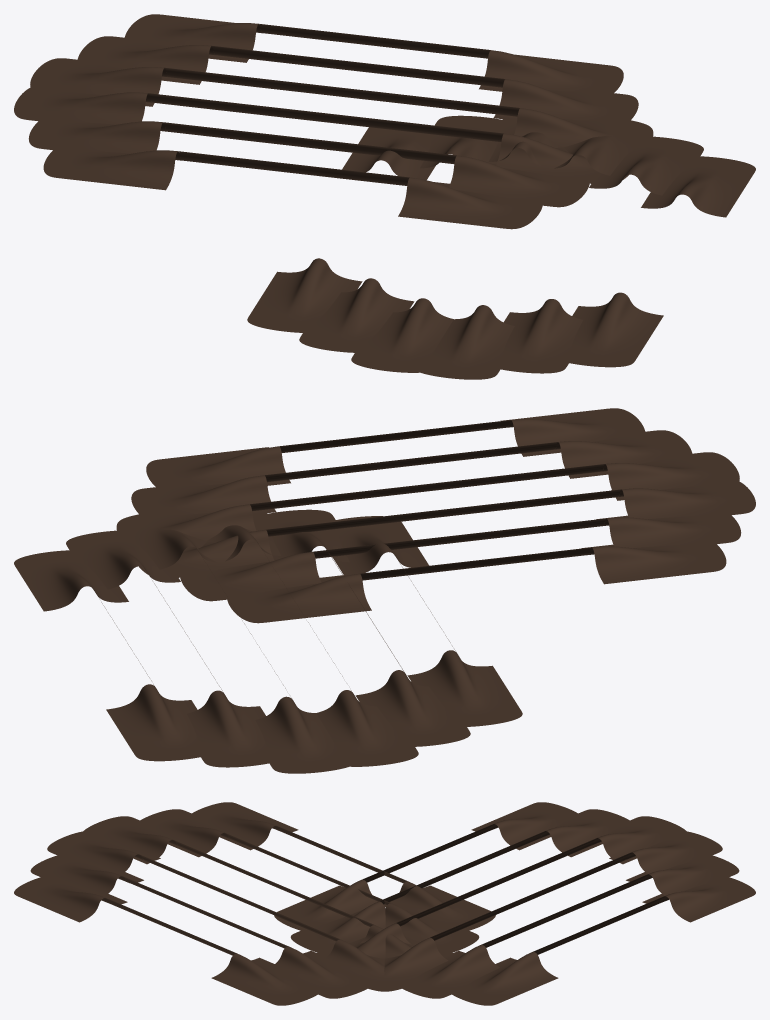
File: jardin.glb
The picture shows the model from 3 angles, top to bottom: view 1: azimuth 30°, elevation 25°; view 2: azimuth 150°, elevation 25°; view 3: azimuth 270°, elevation 25°; orthographic projection. The views are drawn at different scales.
Parts seen in each view (by area): view 1: Objet_14, Objet_15, Objet_57, Objet_10, Objet_12, Objet_7, Objet_8, Objet_45, Objet_54, Objet_56, Objet_33, Objet_34 (+25 smaller); view 2: Objet_44, Objet_45, Objet_27, Objet_40, Objet_42, Objet_37, Objet_38, Objet_15, Objet_26, Objet_24, Objet_8, Objet_22 (+25 smaller); view 3: Objet_56, Objet_26, Objet_52, Objet_22, Objet_57, Objet_27, Objet_14, Objet_44, Objet_15, Objet_45, Objet_10, Objet_8 (+42 smaller).
Boxes of the visible parts, x1=… form: Objet_14: x1=571, y1=292, x2=663, y2=360; Objet_15: x1=248, y1=258, x2=362, y2=323; Objet_57: x1=398, y1=177, x2=520, y2=228; Objet_10: x1=503, y1=299, x2=582, y2=366; Objet_12: x1=301, y1=278, x2=414, y2=343; Objet_7: x1=425, y1=305, x2=514, y2=372; Objet_8: x1=353, y1=298, x2=453, y2=364; Objet_45: x1=59, y1=150, x2=181, y2=190; Objet_54: x1=449, y1=155, x2=567, y2=206; Objet_56: x1=479, y1=50, x2=607, y2=91; Objet_33: x1=165, y1=67, x2=519, y2=116; Objet_34: x1=149, y1=93, x2=503, y2=141; Objet_44: x1=106, y1=684, x2=197, y2=754; Objet_45: x1=407, y1=650, x2=521, y2=717; Objet_27: x1=249, y1=573, x2=371, y2=622; Objet_40: x1=187, y1=690, x2=266, y2=760; Objet_42: x1=355, y1=670, x2=468, y2=737; Objet_37: x1=255, y1=696, x2=344, y2=766; Objet_38: x1=316, y1=690, x2=416, y2=758; Objet_15: x1=581, y1=544, x2=710, y2=584; Objet_26: x1=162, y1=446, x2=290, y2=485; Objet_24: x1=202, y1=551, x2=321, y2=600; Objet_8: x1=611, y1=483, x2=739, y2=519; Objet_22: x1=147, y1=475, x2=276, y2=514; Objet_56: x1=463, y1=951, x2=558, y2=1003; Objet_26: x1=211, y1=953, x2=306, y2=1003; Objet_52: x1=412, y1=944, x2=499, y2=996; Objet_22: x1=270, y1=946, x2=358, y2=996; Objet_57: x1=280, y1=879, x2=384, y2=925; Objet_27: x1=385, y1=881, x2=489, y2=925; Objet_14: x1=19, y1=882, x2=127, y2=922; Objet_44: x1=642, y1=882, x2=750, y2=922; Objet_15: x1=203, y1=804, x2=298, y2=850; Objet_45: x1=471, y1=804, x2=566, y2=850; Objet_10: x1=36, y1=860, x2=143, y2=896; Objet_8: x1=94, y1=818, x2=182, y2=864.
Bounding box in the file's own units: 29.86 × 1.08 × 45.98.
